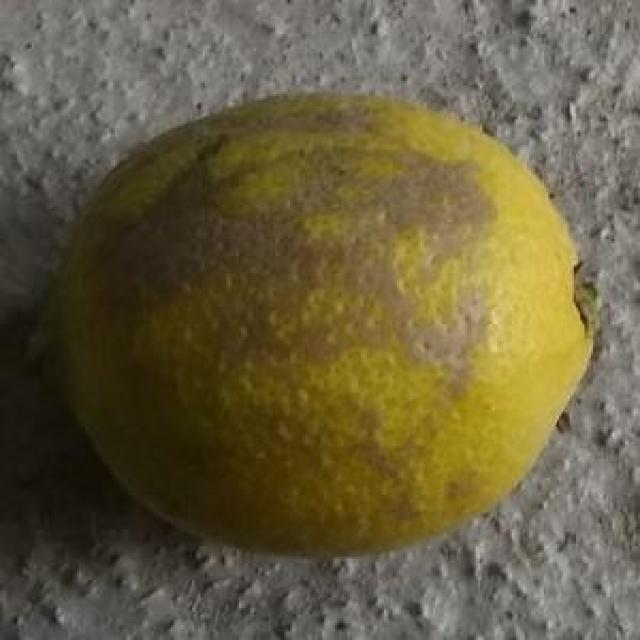lemon: (26, 92, 616, 558)
